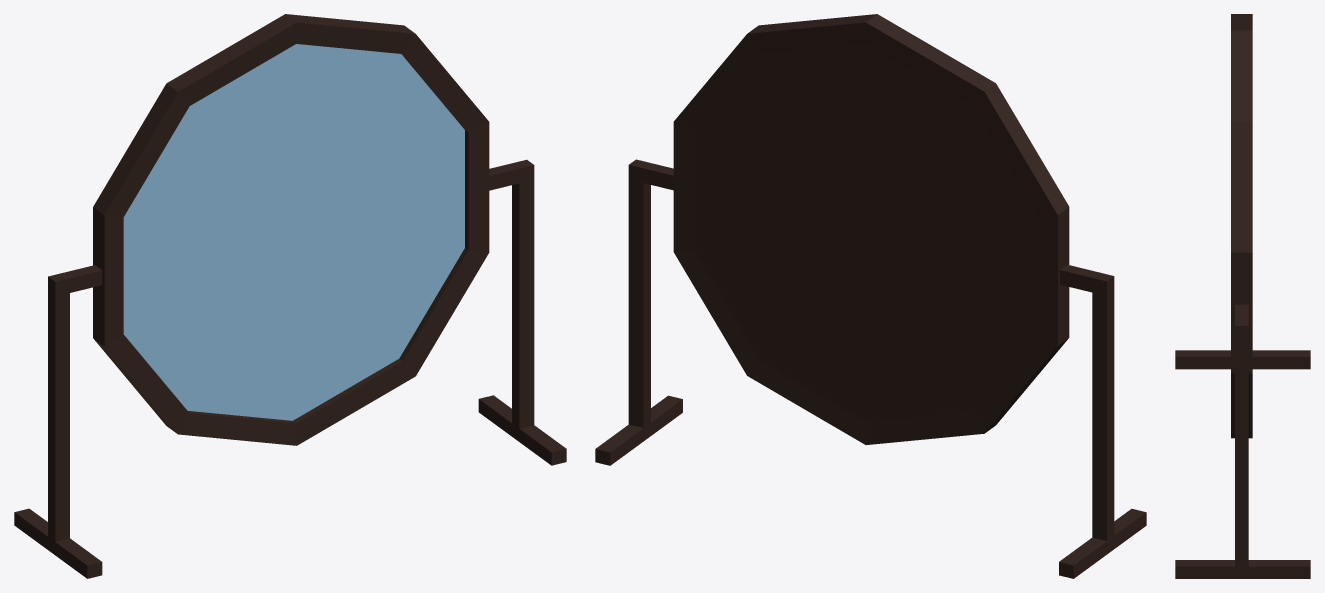
Rendered from mirror.fbx.
3 views of the same model, side by side, from view 1: azimuth 30°, elevation 25°; view 2: azimuth 150°, elevation 25°; view 3: azimuth 270°, elevation 25° (orthographic). The views are drawn at different scales.
Parts seen in each view (by area): view 1: Cylinder.001, Cylinder, Cube; view 2: Cylinder, Cube; view 3: Cube, Cylinder.
Part boxes in pixels (left/top/right/bottom): Cylinder.001: left=123, top=44, right=464, bottom=420; Cylinder: left=93, top=14, right=489, bottom=445; Cube: left=14, top=159, right=566, bottom=578; Cylinder: left=673, top=14, right=1069, bottom=444; Cube: left=595, top=159, right=1146, bottom=578; Cube: left=1175, top=304, right=1310, bottom=578; Cylinder: left=1231, top=14, right=1252, bottom=438.
Bounding box in the file's own units: 1784 × 1694 × 471.
